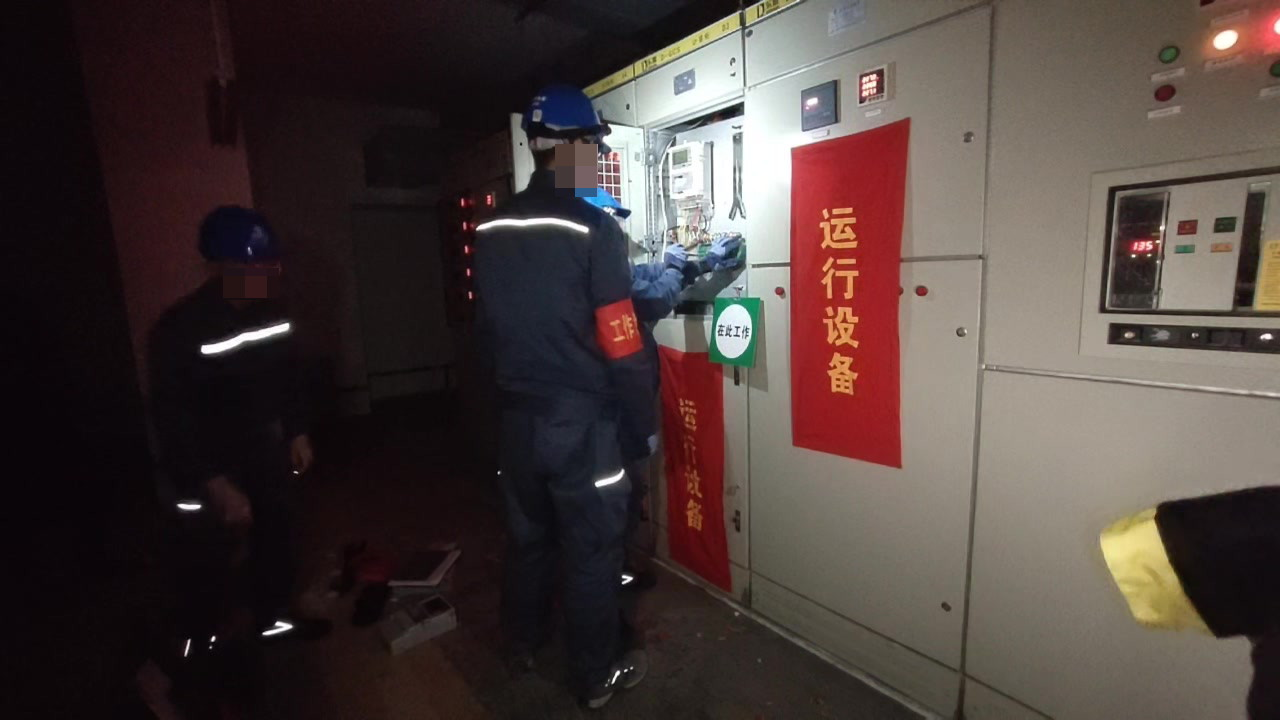badge: (592, 297, 644, 364)
downsuit: (501, 413, 637, 700), (163, 468, 225, 625)
glove: (705, 238, 746, 276), (658, 238, 695, 276)
halt: (519, 83, 611, 186), (199, 211, 290, 308), (577, 179, 628, 223)
hand: (199, 478, 255, 525), (288, 437, 319, 480)
inear: (566, 135, 598, 178)
person: (459, 79, 733, 705), (147, 192, 331, 668)
upsuit: (466, 170, 661, 447), (148, 283, 315, 453)
worksign: (708, 300, 761, 368)
